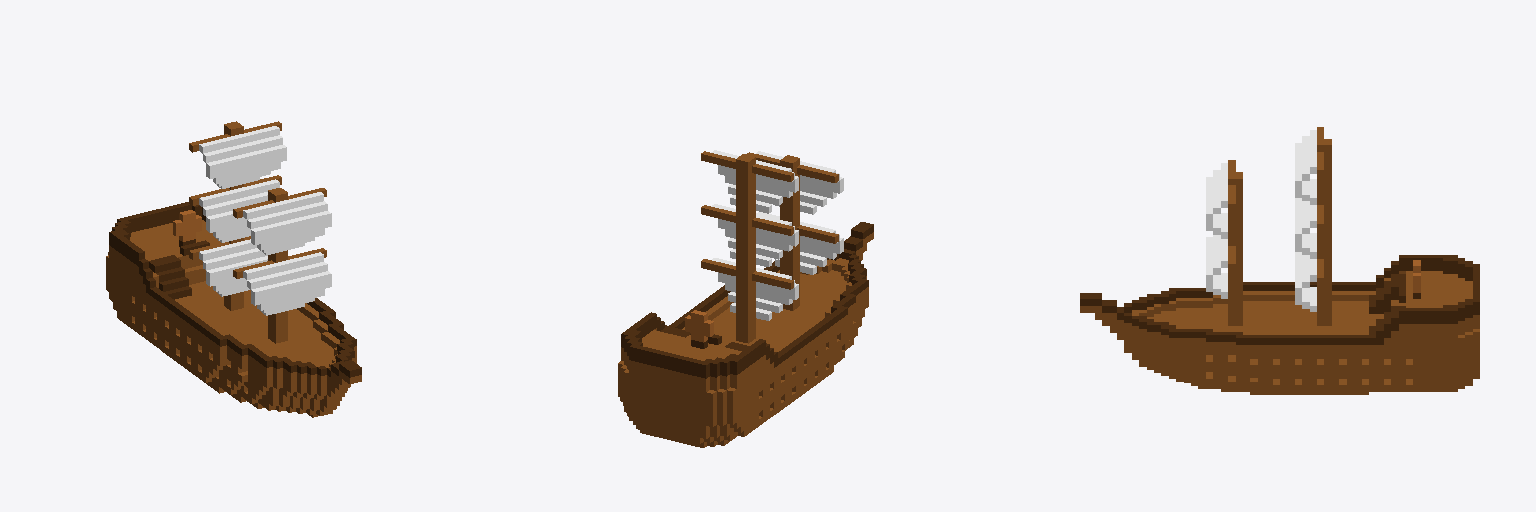
3 views of the same model, side by side, from view 1: azimuth 30°, elevation 25°; view 2: azimuth 150°, elevation 25°; view 3: azimuth 270°, elevation 25° (orthographic).
Visible parts, largest first — view 1: PirateShip; view 2: PirateShip; view 3: PirateShip.
Part boxes in pixels (x1,y1,x2,y2): PirateShip: (106, 121, 361, 417); PirateShip: (618, 150, 873, 447); PirateShip: (1080, 127, 1479, 394).
Bounding box in the file's own units: 18 × 34 × 54.
1 materials, 1 textured.